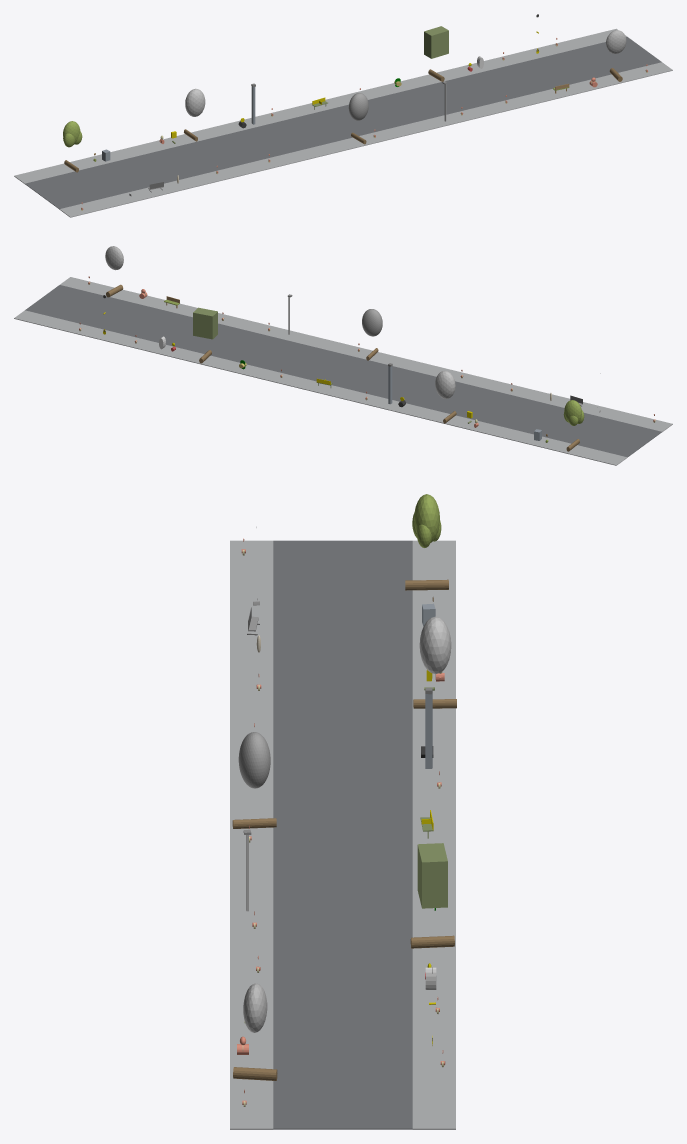
3 renders of one model, top to bottom at view 1: azimuth 30°, elevation 25°; view 2: azimuth 150°, elevation 25°; view 3: azimuth 270°, elevation 25°, orthographic. The views are drawn at different scales.
Visible parts, largest first — view 1: road_slab, sidewalk_left, sidewalk_right, inst_0015, inst_0013, inst_0014, inst_0012, inst_0016; view 2: road_slab, sidewalk_right, sidewalk_left, inst_0015, inst_0013, inst_0014, inst_0012, inst_0016; view 3: road_slab, sidewalk_left, sidewalk_right, inst_0015, inst_0014, inst_0013, inst_0012, inst_0016.
Part boxes in pixels (left/top/right/bottom): road_slab: left=25, top=36, right=661, bottom=209; sidewalk_left: left=59, top=62, right=672, bottom=217; sidewalk_right: left=14, top=28, right=626, bottom=183; inst_0015: left=424, top=26, right=448, bottom=81; inst_0013: left=184, top=88, right=205, bottom=141; inst_0014: left=348, top=93, right=368, bottom=144; inst_0012: left=63, top=121, right=82, bottom=172; inst_0016: left=606, top=30, right=626, bottom=81; road_slab: left=25, top=285, right=661, bottom=457; sidewalk_right: left=14, top=310, right=627, bottom=465; sidewalk_left: left=60, top=277, right=672, bottom=432; inst_0015: left=193, top=307, right=217, bottom=363; inst_0013: left=435, top=371, right=456, bottom=423; inst_0014: left=362, top=309, right=382, bottom=360; inst_0012: left=563, top=400, right=584, bottom=451; inst_0016: left=105, top=246, right=123, bottom=297; road_slab: left=273, top=540, right=412, bottom=1129; sidewalk_left: left=230, top=540, right=273, bottom=1129; sidewalk_right: left=412, top=540, right=455, bottom=1129; inst_0015: left=410, top=843, right=454, bottom=948; inst_0014: left=232, top=732, right=276, bottom=828; inst_0013: left=413, top=616, right=456, bottom=708; inst_0012: left=405, top=494, right=448, bottom=590; inst_0016: left=233, top=983, right=277, bottom=1080.
Bounding box in the file's own units: 80 × 6.08 × 13.06.
